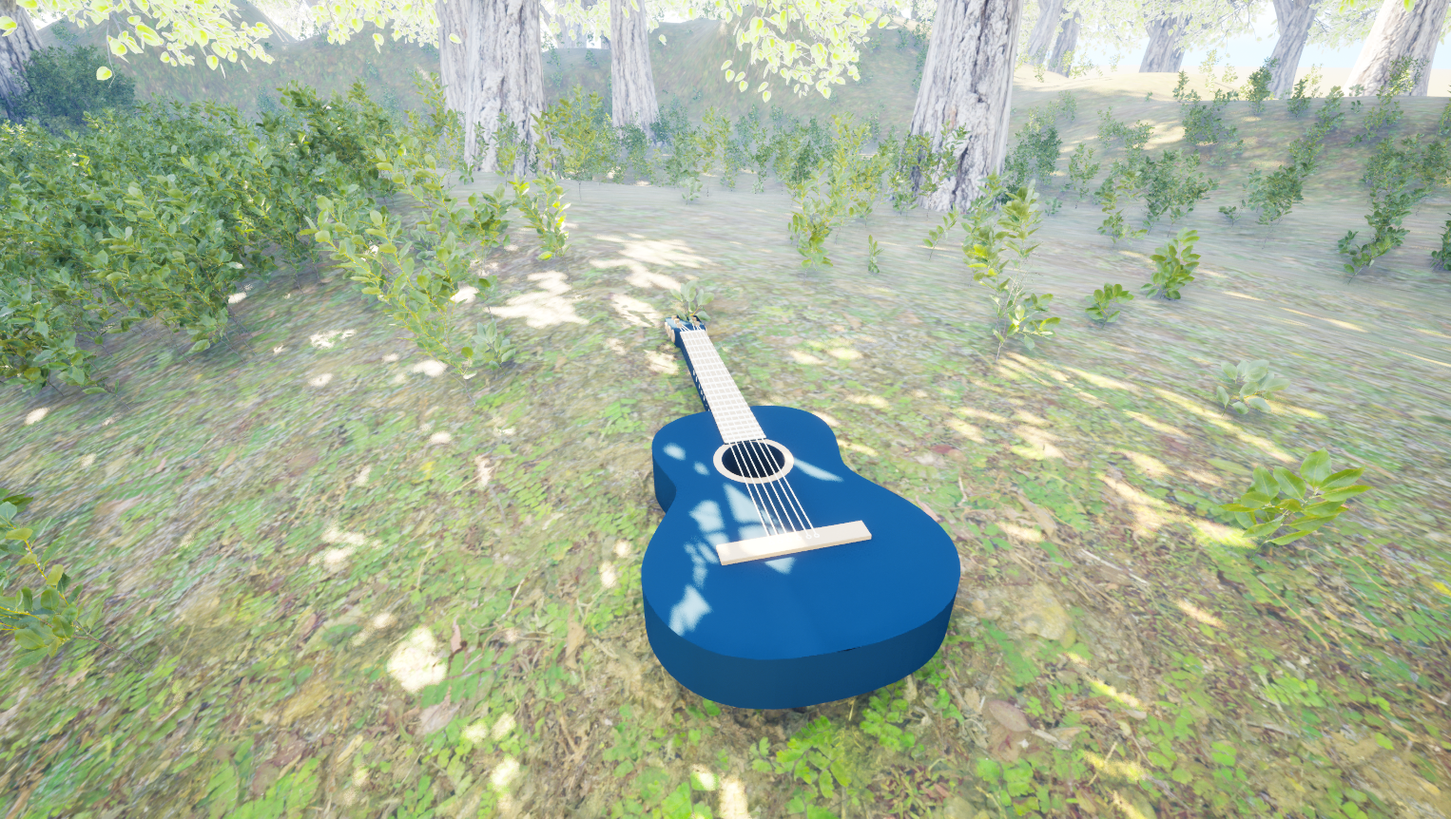Guitar: (595, 298, 1015, 741)
